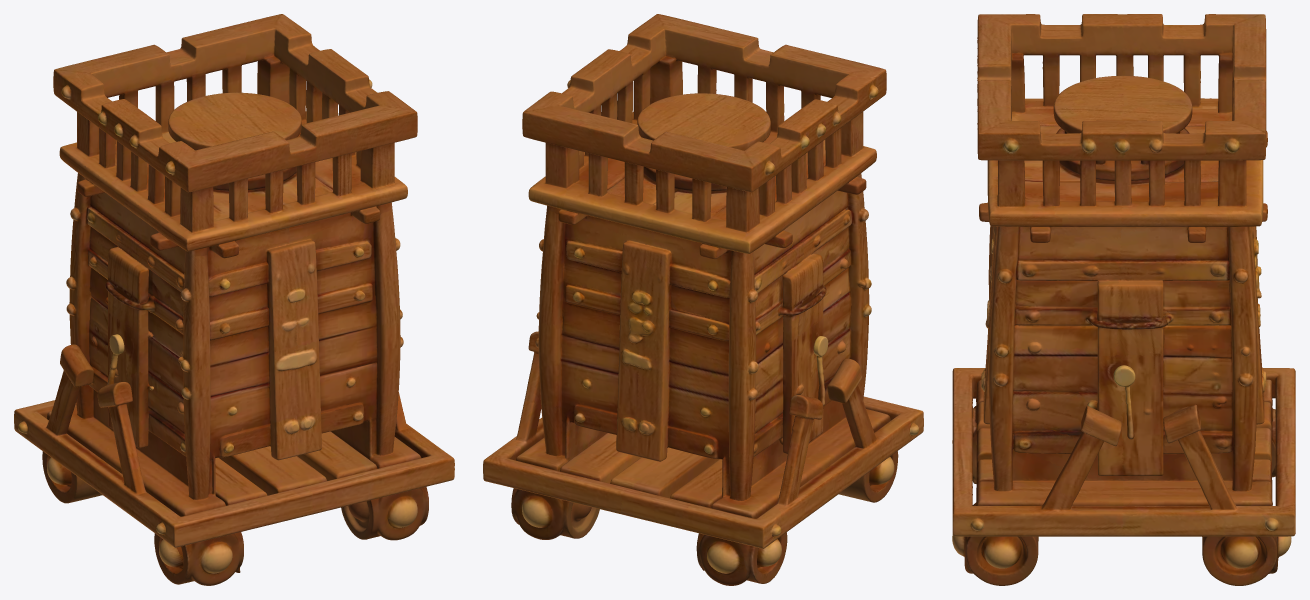
The picture shows the model from 3 angles, left to right: view 1: azimuth 30°, elevation 25°; view 2: azimuth 150°, elevation 25°; view 3: azimuth 270°, elevation 25°; orthographic projection. The views are drawn at different scales.
Visible parts, largest first — view 1: tripo_node_d61efca8-f782-4252-ab3f-689098604041; view 2: tripo_node_d61efca8-f782-4252-ab3f-689098604041; view 3: tripo_node_d61efca8-f782-4252-ab3f-689098604041.
Boxes of the visible parts, left/top/right/bottom form: tripo_node_d61efca8-f782-4252-ab3f-689098604041: left=14, top=14, right=454, bottom=585; tripo_node_d61efca8-f782-4252-ab3f-689098604041: left=483, top=14, right=923, bottom=585; tripo_node_d61efca8-f782-4252-ab3f-689098604041: left=952, top=14, right=1295, bottom=585.
Bounding box in the file's own units: 0.7238 × 1 × 0.6898.
Materials: 1 (1 with a texture image).
